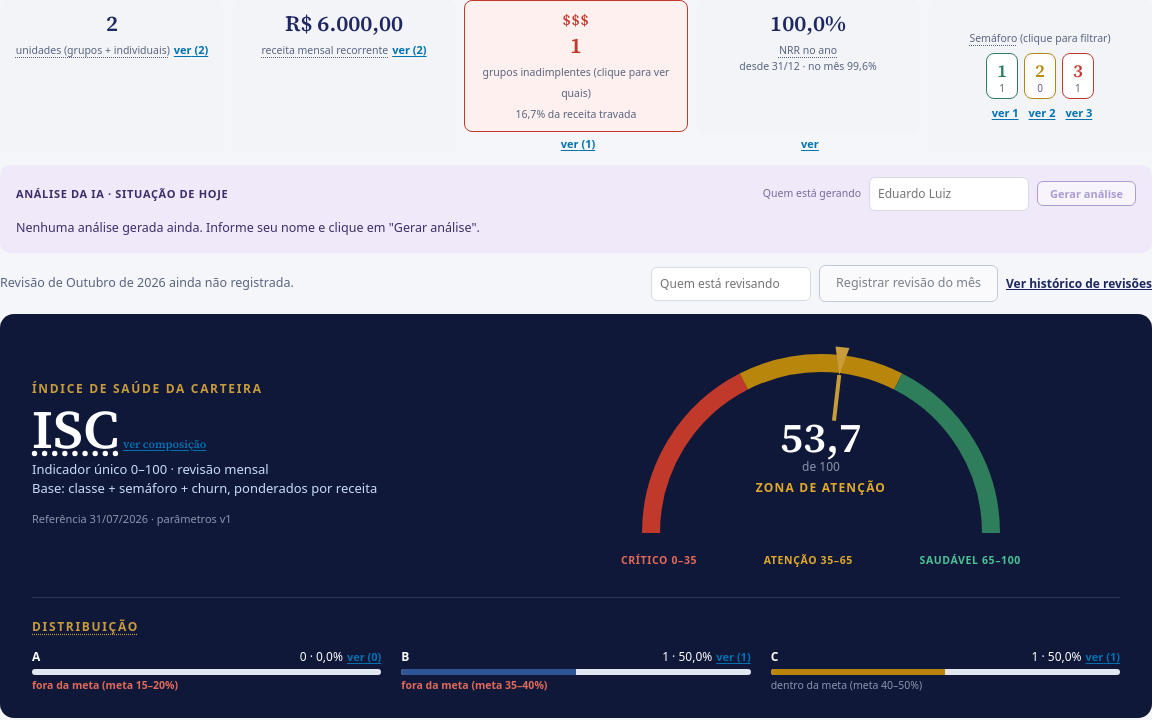
Test: Saúde da carteira: $$$, composições e NRR no ano (18/10/2026) › cada semáforo abre os grupos do seu nível
What coordinates should you click on to do the following:
click the button with aria-label "Ver composição: Semáforo 1 — Controlada"
I would click on:
 (1005, 113)
Its box is top-left (992, 105), bottom-right (1018, 122).
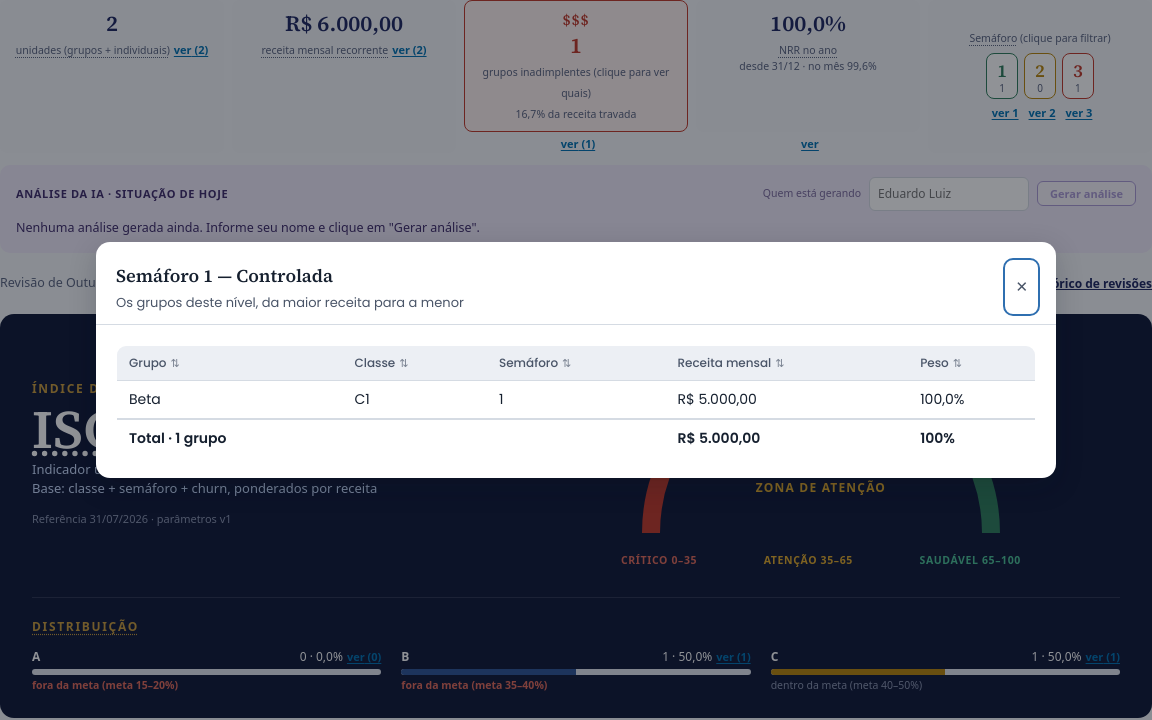
Expected: the text "Beta" is shown, top-left (116, 381), bottom-right (342, 419)
